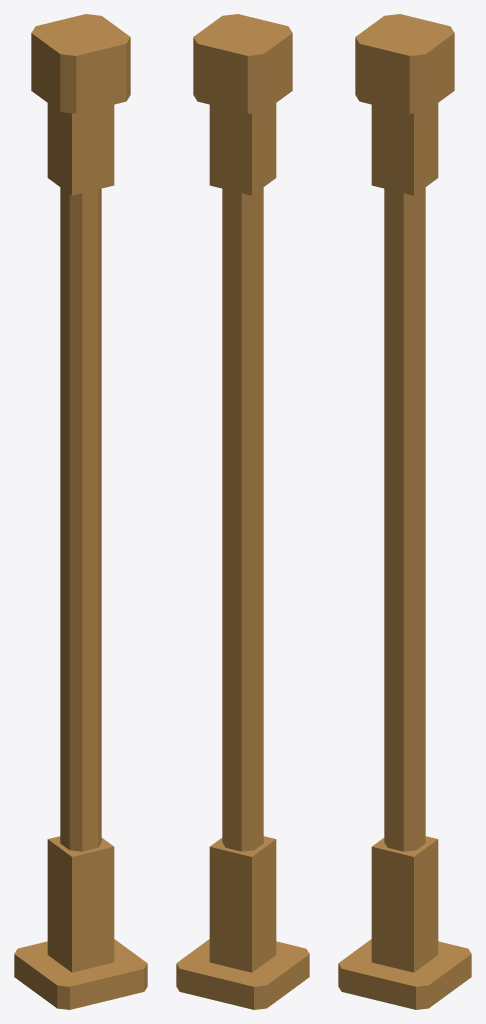
The model's file is SM_LPI_Stair_Baluster_01.fbx.
3 renders of one model, left to right at view 1: azimuth 30°, elevation 25°; view 2: azimuth 150°, elevation 25°; view 3: azimuth 330°, elevation 25°, orthographic.
Parts seen in each view (by area): view 1: SM_LPI_Stair_Baluster_01; view 2: SM_LPI_Stair_Baluster_01; view 3: SM_LPI_Stair_Baluster_01.
Part boxes in pixels (x1,y1,x2,y2): SM_LPI_Stair_Baluster_01: (14,14,147,1009); SM_LPI_Stair_Baluster_01: (176,14,309,1009); SM_LPI_Stair_Baluster_01: (338,14,471,1009).
Bounding box in the file's own units: 0.09 × 0.9 × 0.09.
